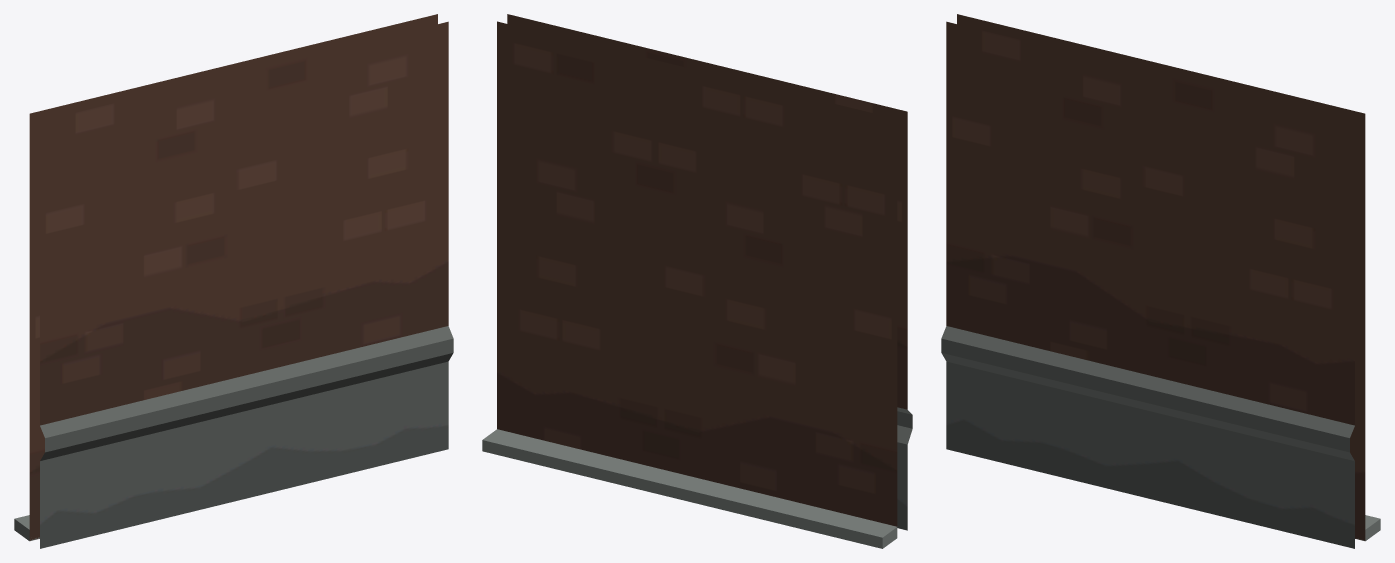
Rendered from SM_Bld_Wall_Brick_01.obj.
The picture shows the model from 3 angles, left to right: view 1: azimuth 30°, elevation 25°; view 2: azimuth 150°, elevation 25°; view 3: azimuth 330°, elevation 25°; orthographic projection. The views are drawn at different scales.
Visible parts, largest first — view 1: SM_Bld_Wall_Brick_01_0; view 2: SM_Bld_Wall_Brick_01_0; view 3: SM_Bld_Wall_Brick_01_0.
Boxes of the visible parts, x1=… form: SM_Bld_Wall_Brick_01_0: x1=14, y1=14, x2=453, y2=548; SM_Bld_Wall_Brick_01_0: x1=482, y1=14, x2=912, y2=548; SM_Bld_Wall_Brick_01_0: x1=941, y1=14, x2=1380, y2=548.
Size of the model in its own units: 3 by 3 by 0.39.
Materials: 1 (1 with a texture image).
